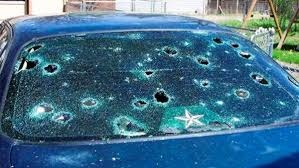Broken-glass: (8, 30, 293, 138)
